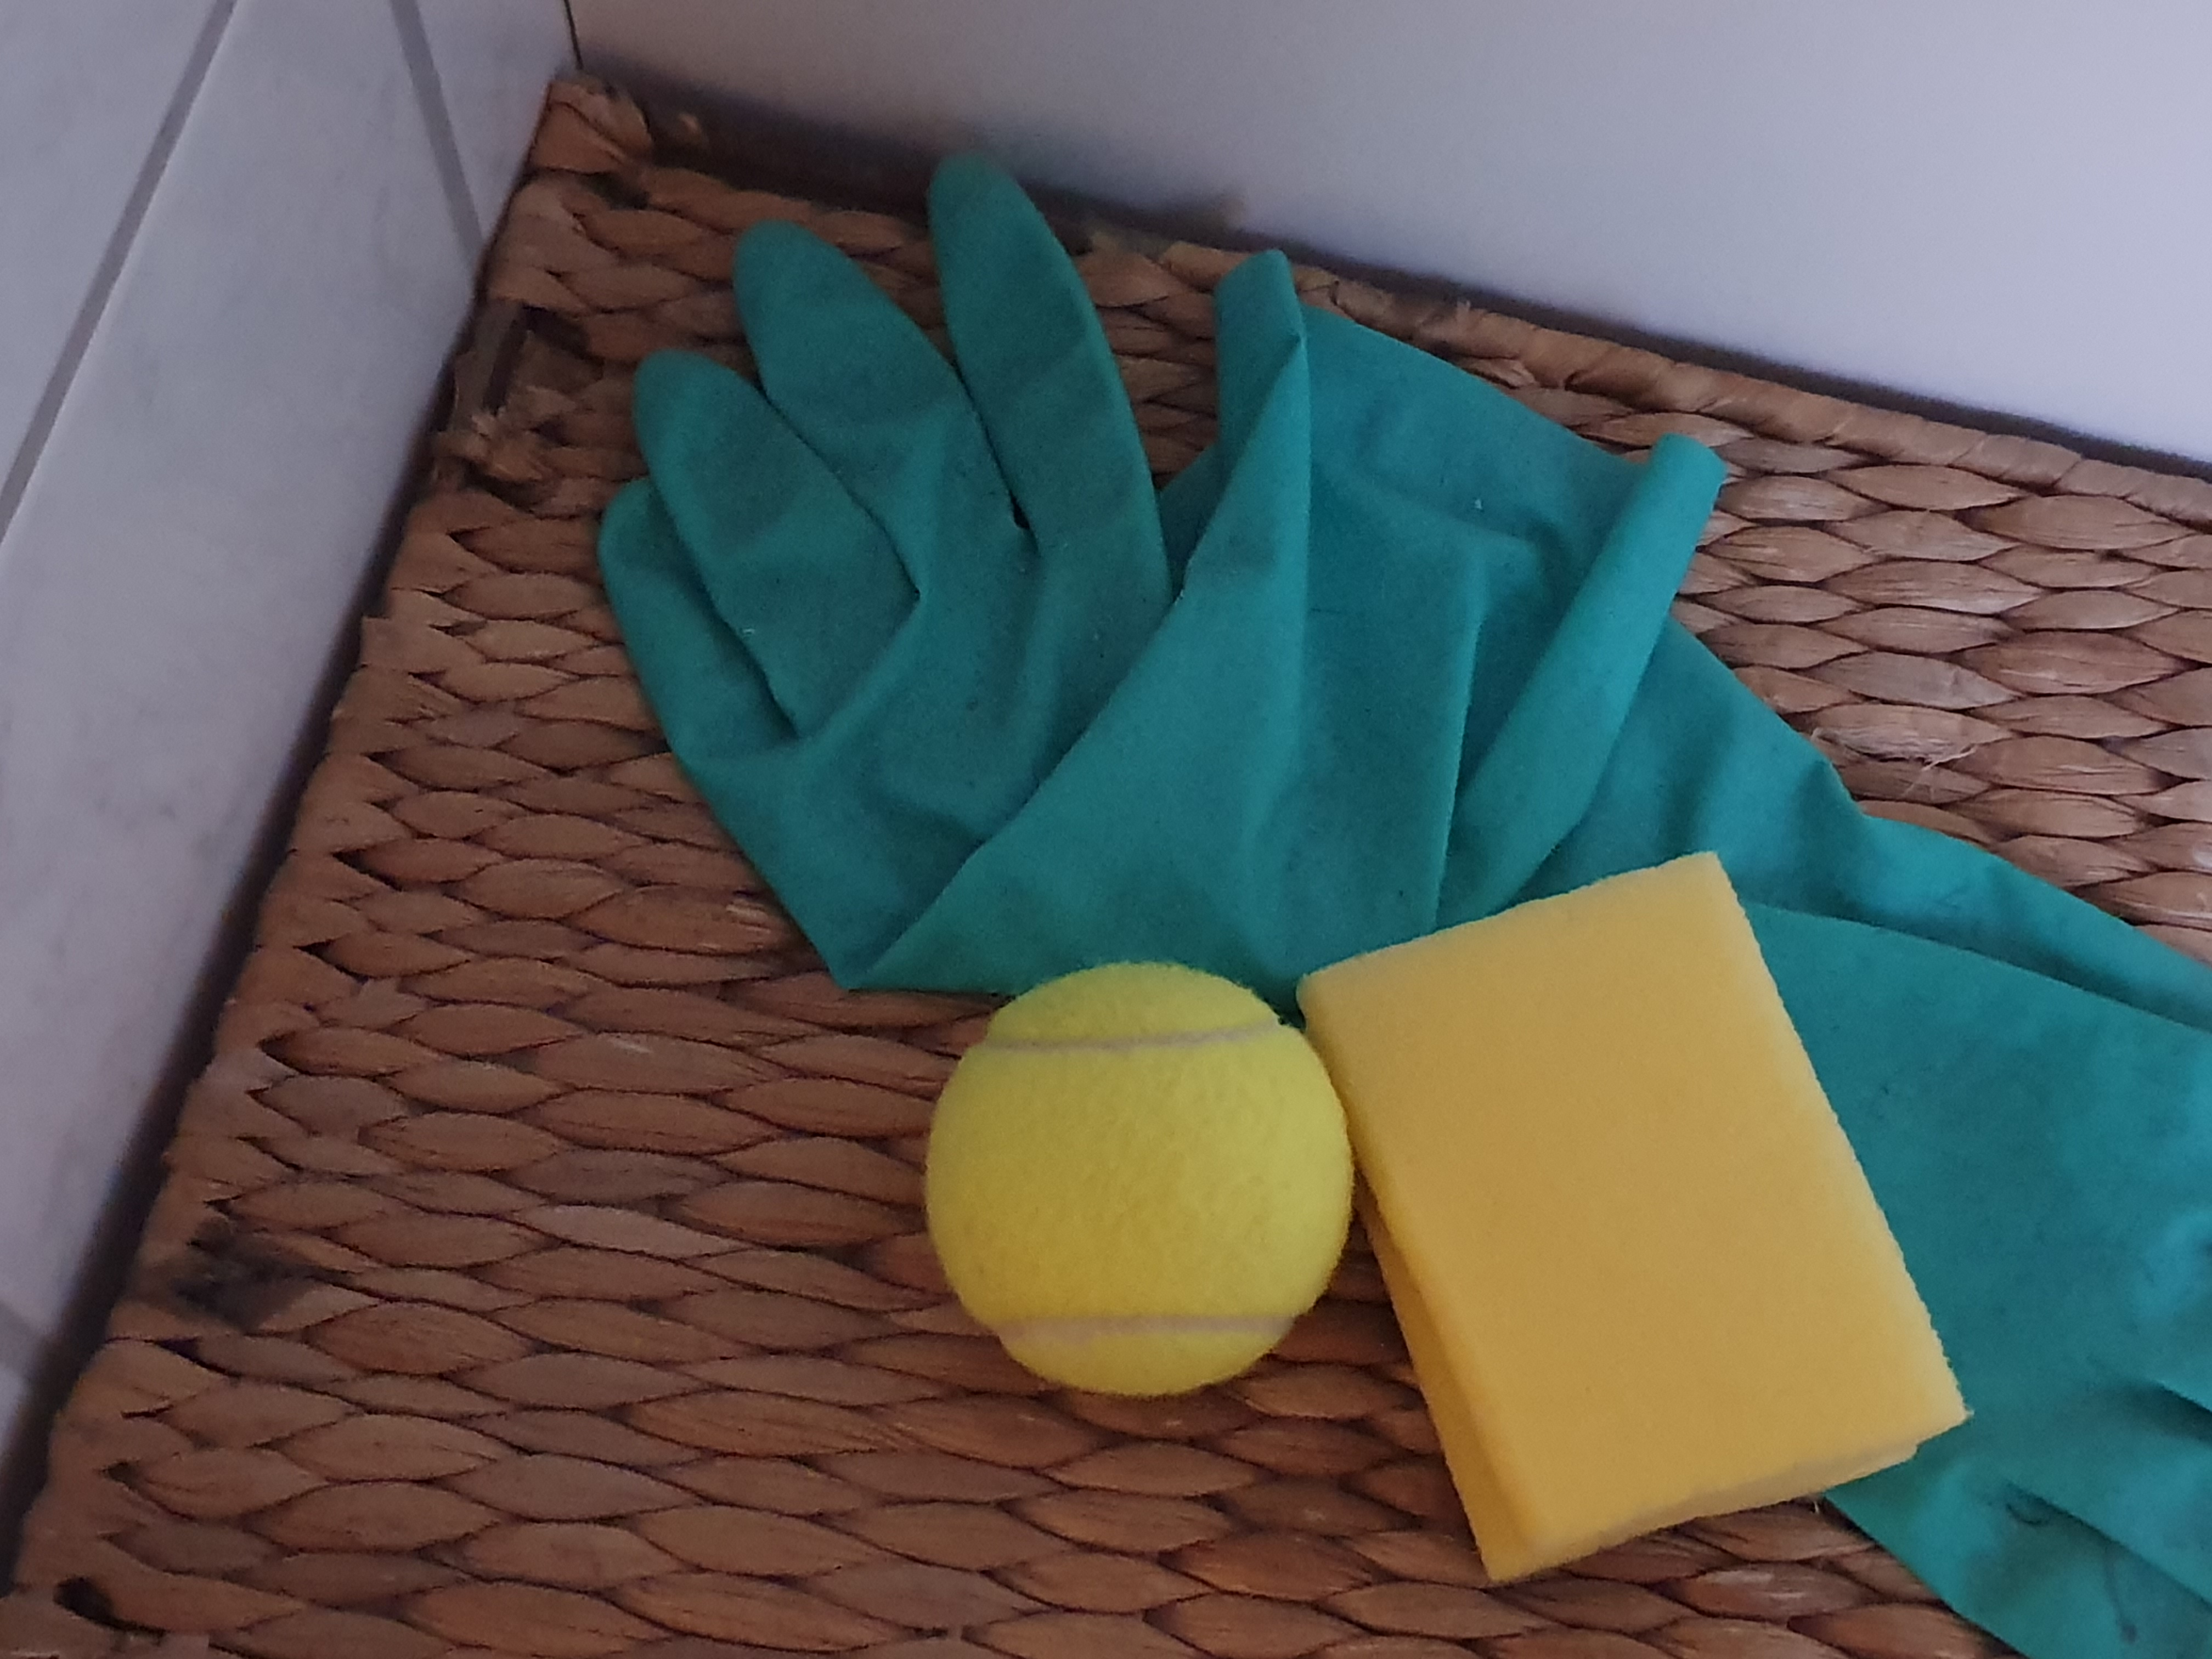Tennis Ball: (899, 931, 1348, 1419)
